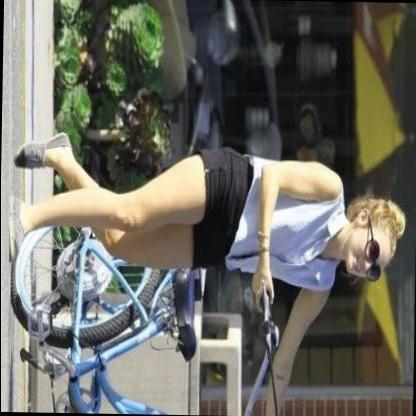no_safety-shoe: (7, 112, 79, 183), (2, 184, 31, 275)
